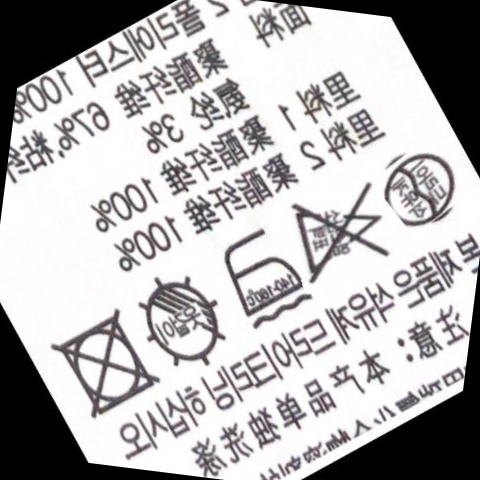DN_bleach: (284, 183, 387, 279)
DN_tumble_dry: (47, 303, 158, 418)
dry_clean_petrol_only: (376, 142, 458, 232)
iron_medium: (211, 224, 308, 317)
line_dry_in_shade: (132, 269, 232, 373)
